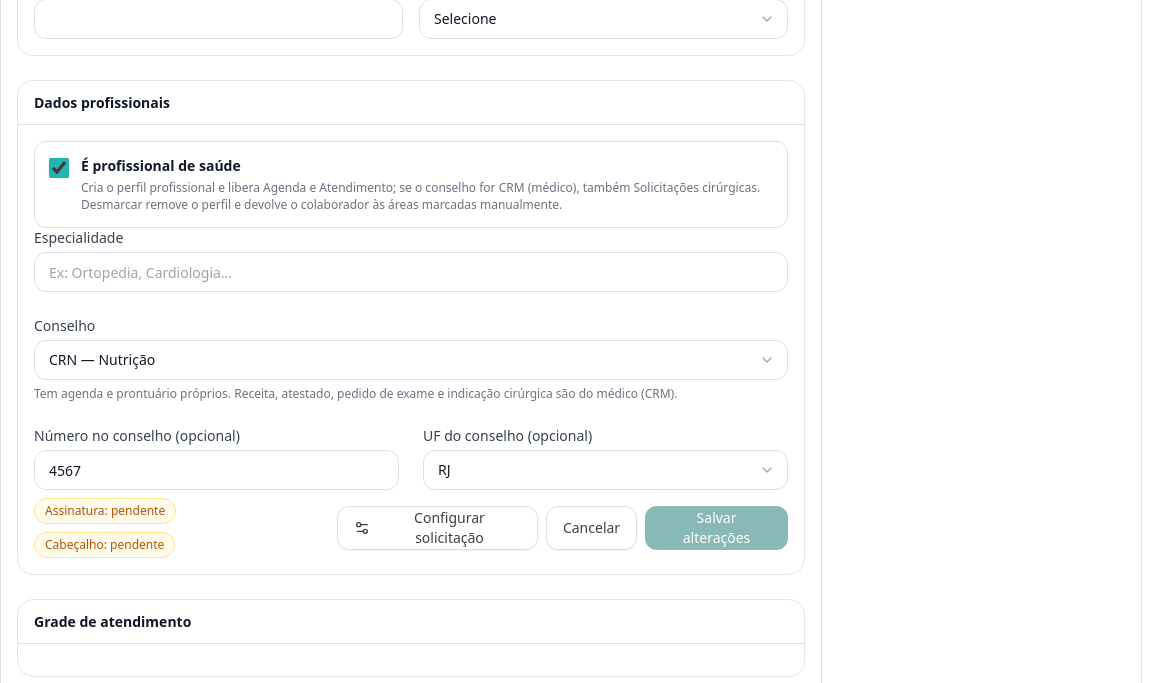
Test: Colaborador — dados profissionais › trocar o conselho recarrega o colaborador e invalida a lista de médicos
This screenshot has width=1152, height=683.
(page scrolled)
Select "CRP — Psicologia" in the dropdown labelled "Conselho" at (411, 360), box left=34, top=340, right=788, bottom=380
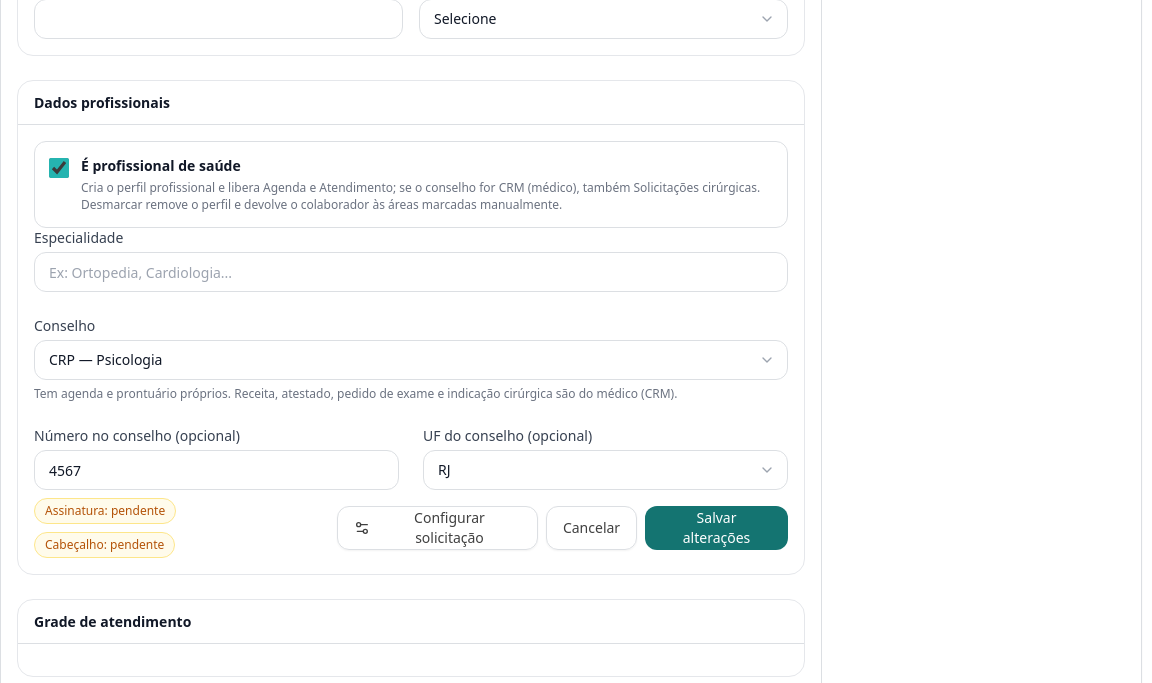
Click the button "Salvar alterações" at (717, 528), box left=645, top=506, right=788, bottom=550
(page scrolled)
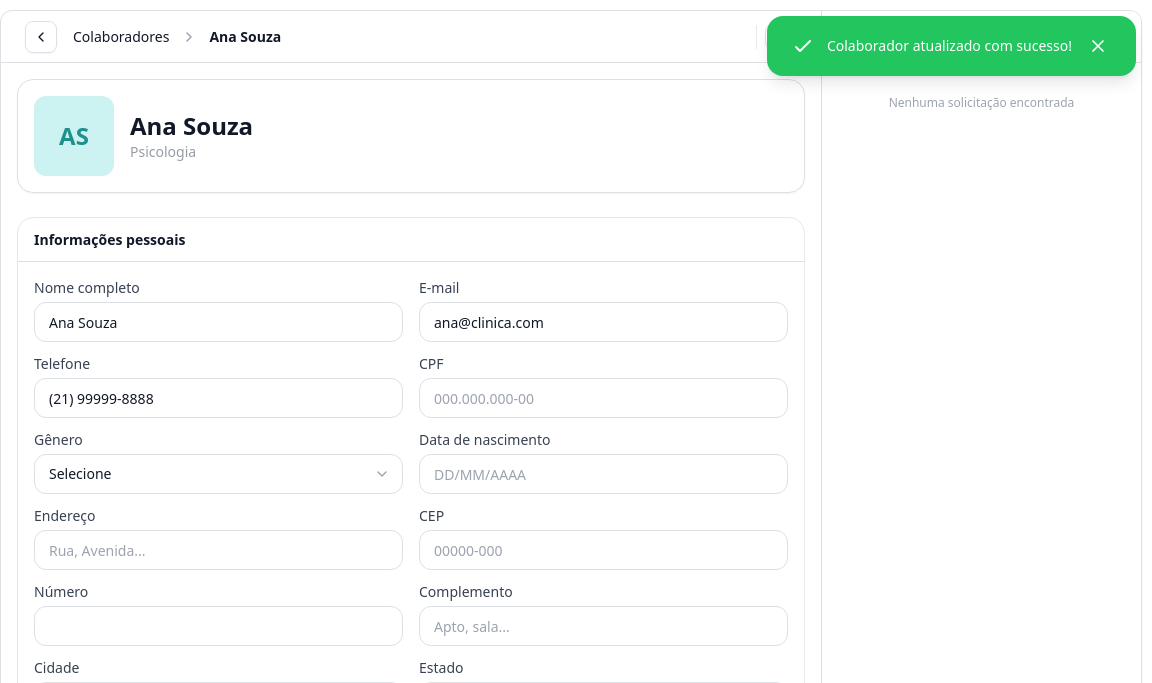
Expected: the text "Psicologia" is shown, left=130, top=142, right=196, bottom=161
